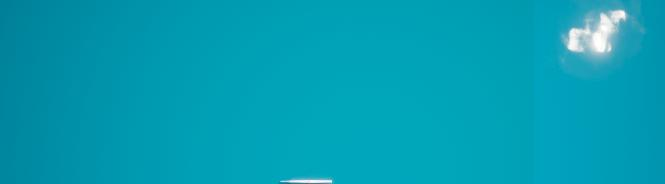land_base: (548, 0, 651, 80)
